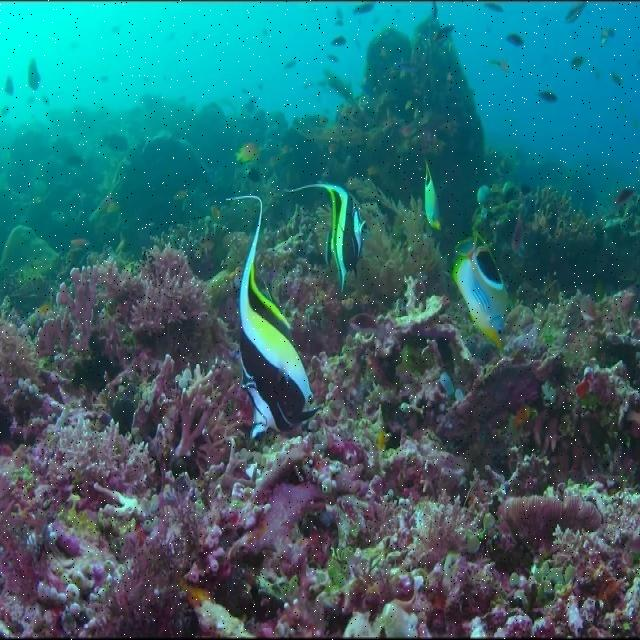fish: (227, 194, 318, 437), (289, 182, 365, 290), (454, 236, 509, 358), (423, 158, 444, 230)
reefs: (0, 244, 639, 639)
